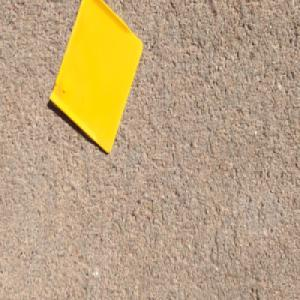PlasticPart: (48, 0, 144, 155)
